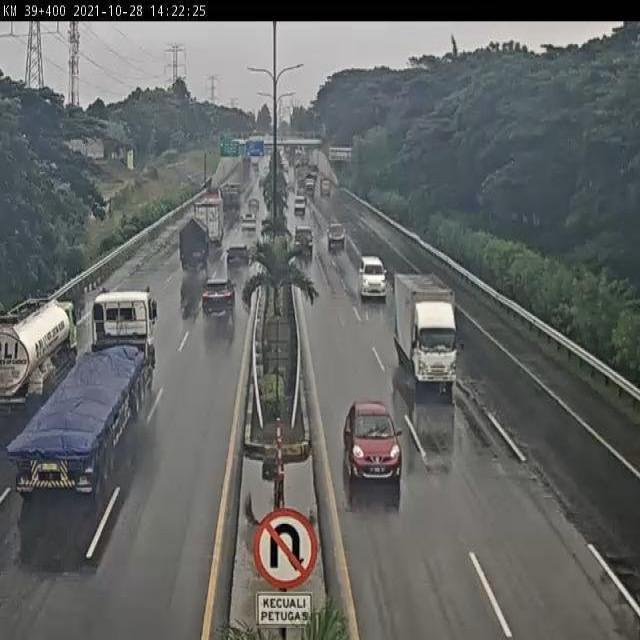car: (339, 400, 405, 488), (197, 282, 237, 330), (355, 253, 390, 304), (326, 219, 352, 252), (225, 245, 253, 275), (238, 211, 261, 240), (297, 231, 318, 261), (289, 191, 311, 216), (247, 199, 260, 219)
truck: (76, 284, 166, 484), (396, 271, 464, 396), (0, 297, 84, 375), (176, 217, 212, 276), (195, 182, 230, 242)
